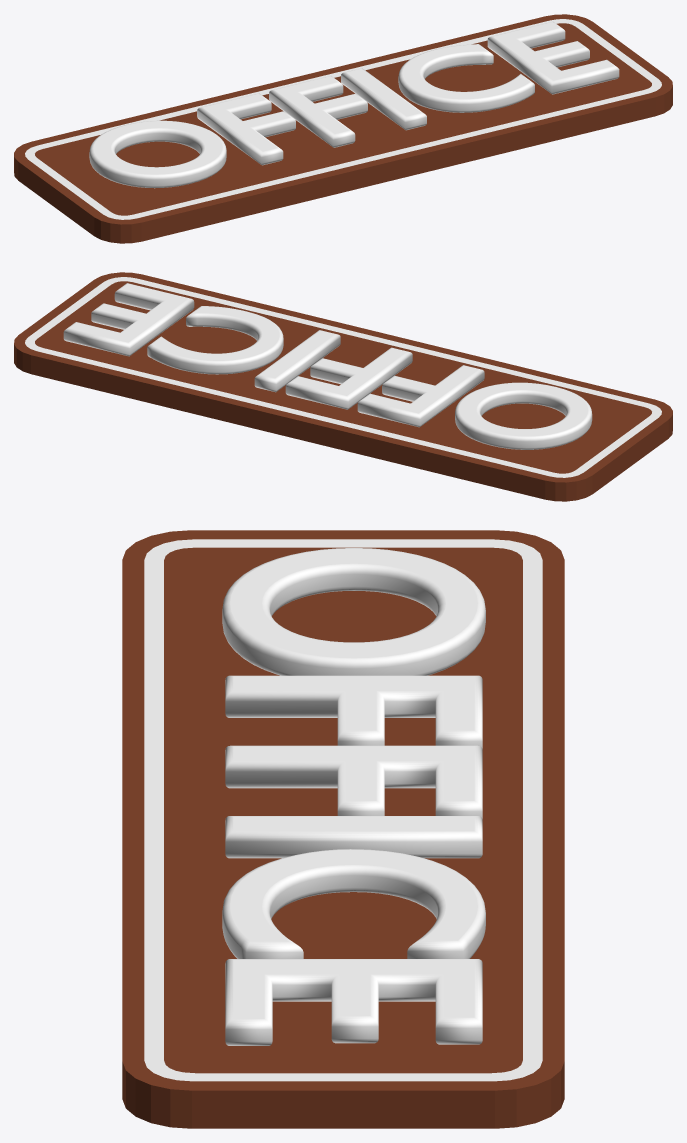
Rendered from OfficeSign.glb.
3 views of the same model, one above another, from view 1: azimuth 30°, elevation 25°; view 2: azimuth 150°, elevation 25°; view 3: azimuth 270°, elevation 25° (orthographic). The views are drawn at different scales.
Visible parts, largest first — view 1: Office Sign; view 2: Office Sign; view 3: Office Sign.
Part boxes in pixels (x1,y1,x2,y2): Office Sign: (14,14,672,243); Office Sign: (14,272,672,501); Office Sign: (122,530,564,1128).
Size of the model in its own units: 0.4572 by 0.0254 by 0.1524.
